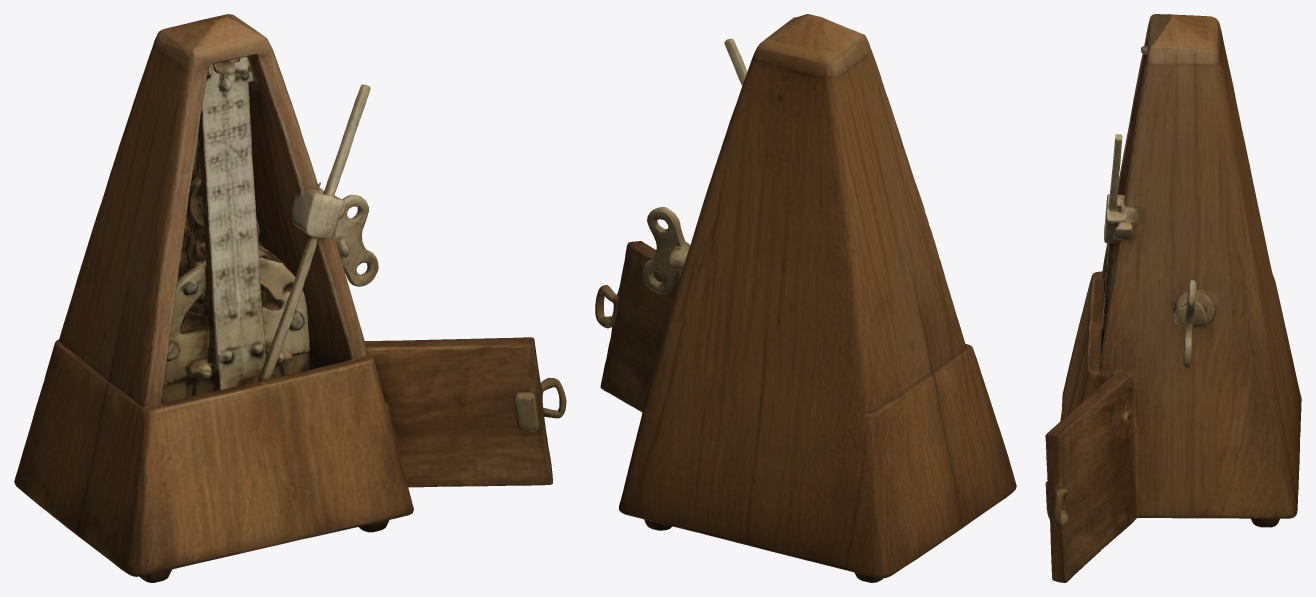
File: parts.glb
3 views of the same model, side by side, from view 1: azimuth 30°, elevation 25°; view 2: azimuth 150°, elevation 25°; view 3: azimuth 270°, elevation 25° (orthographic). The views are drawn at different scales.
Bounding box in the file's own units: 0.2162 × 0.24 × 0.1212.
Materials: 5 (5 with a texture image).
